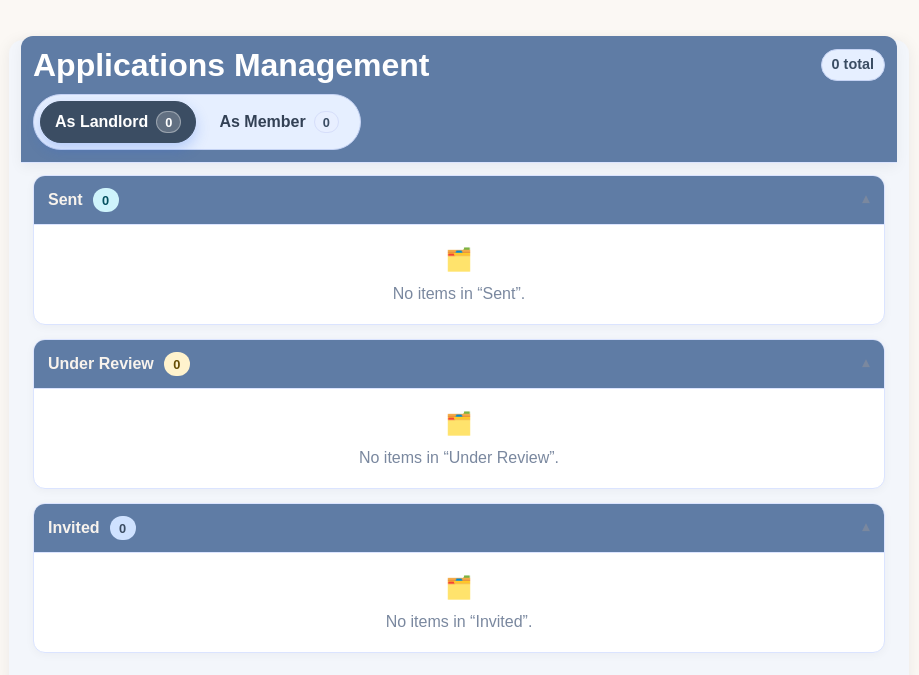
Applications Page › shows empty messages when no applications
Check: the text "No items in “Sent”." is shown, box [393,282,525,306]
Check: the text "No items in “Under Review”." is shown, box [359,446,559,470]
# Switch to member tab for member empty states
Click the tab "As Member 0" at (279, 122), box [204,101,354,143]
(page scrolled)
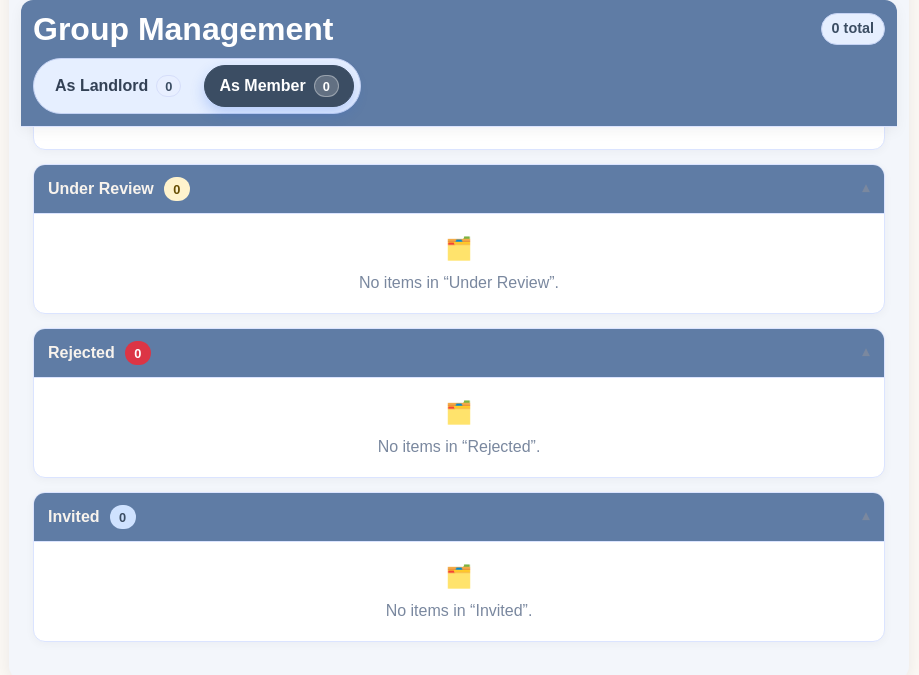
Check: the text "No items in “Sent”." is shown, box [393,107,525,131]
Check: the text "No items in “Rejected”." is shown, box [378,435,540,459]
